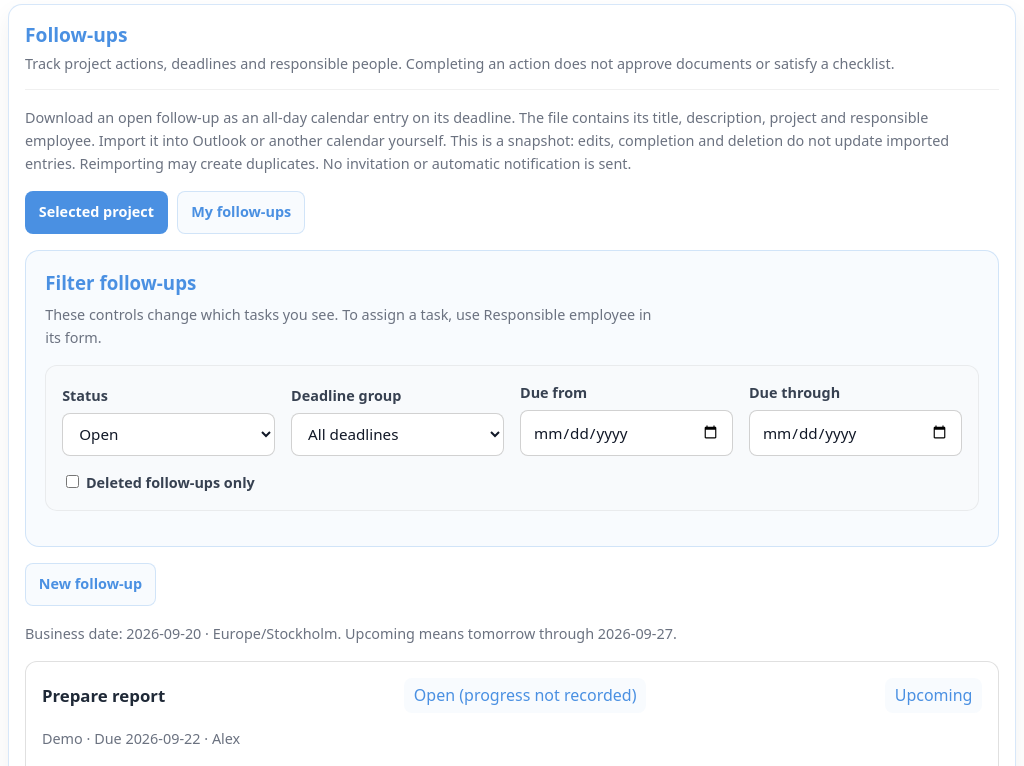
Test: explains NO_EMPLOYEE instead of presenting an ordinary empty queue
The image size is (1024, 766).
Expected: the heading "Prepare report" is shown, [42,683,165,708]
Click the button "My follow-ups": [241, 212] box [177,191,305,234]
(page scrolled)
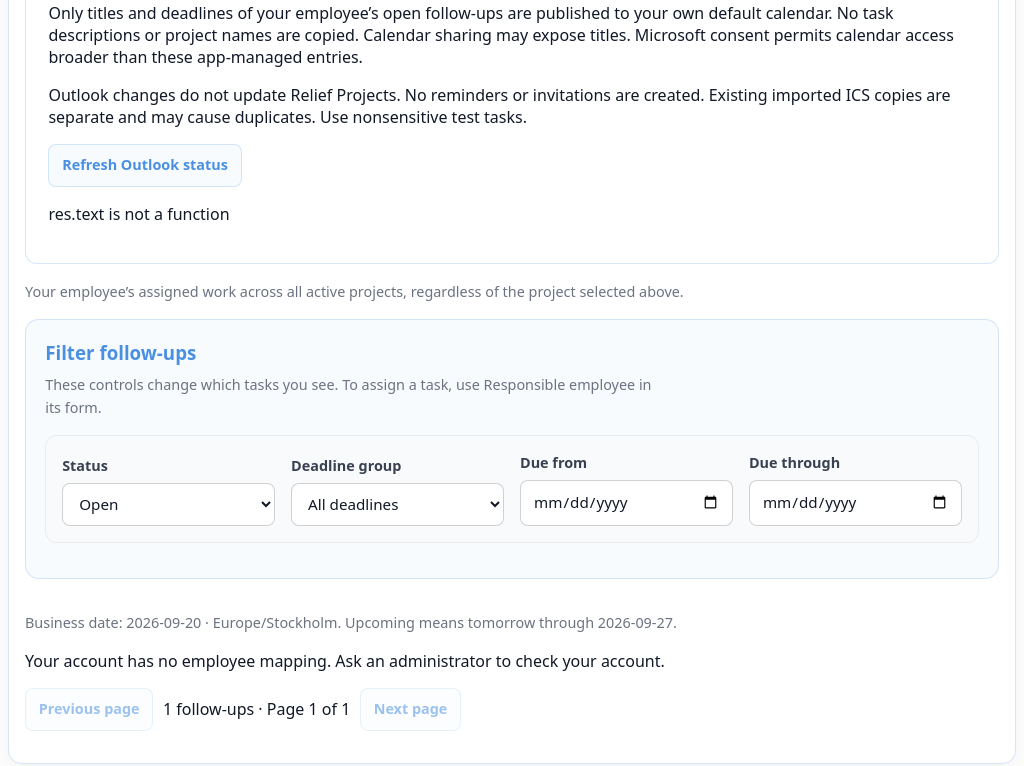
Expected: the text "no employee mapping" is shown, [25,650,665,672]
